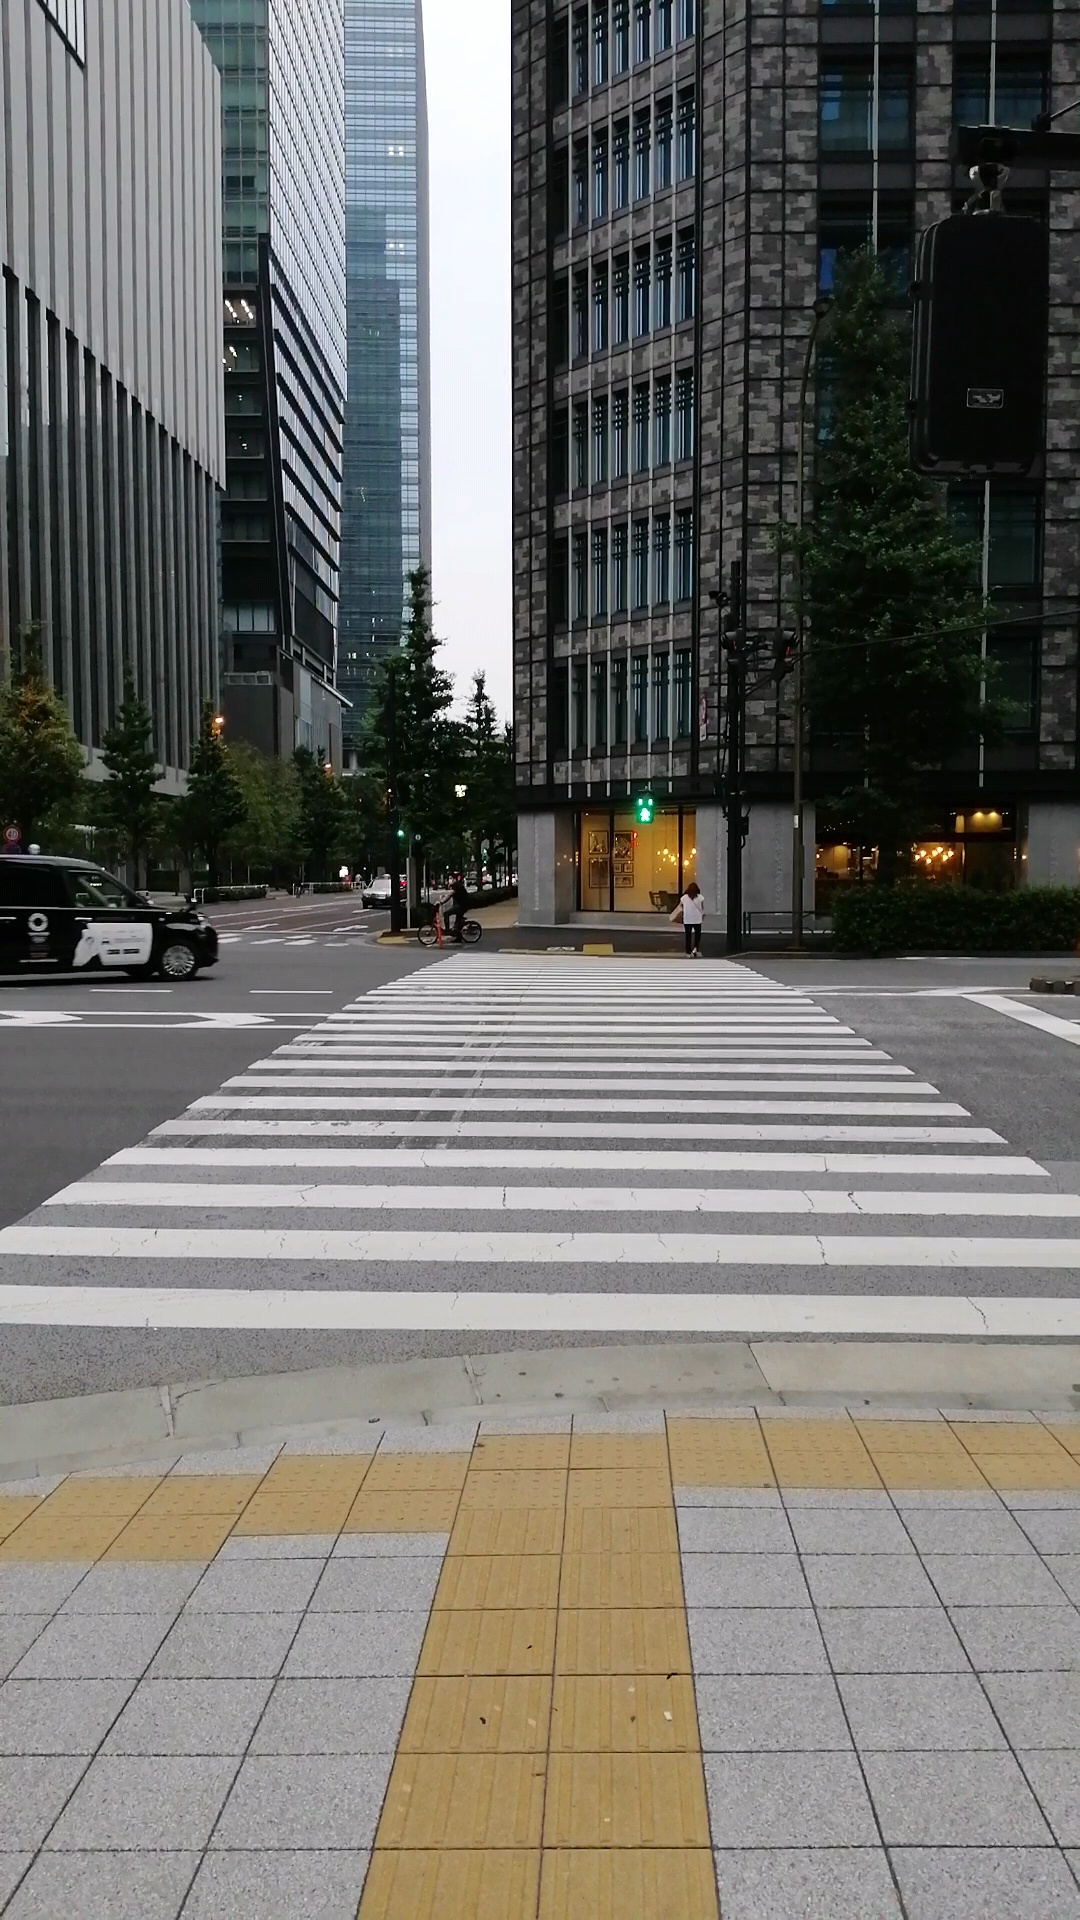green: (634, 789, 655, 823)
